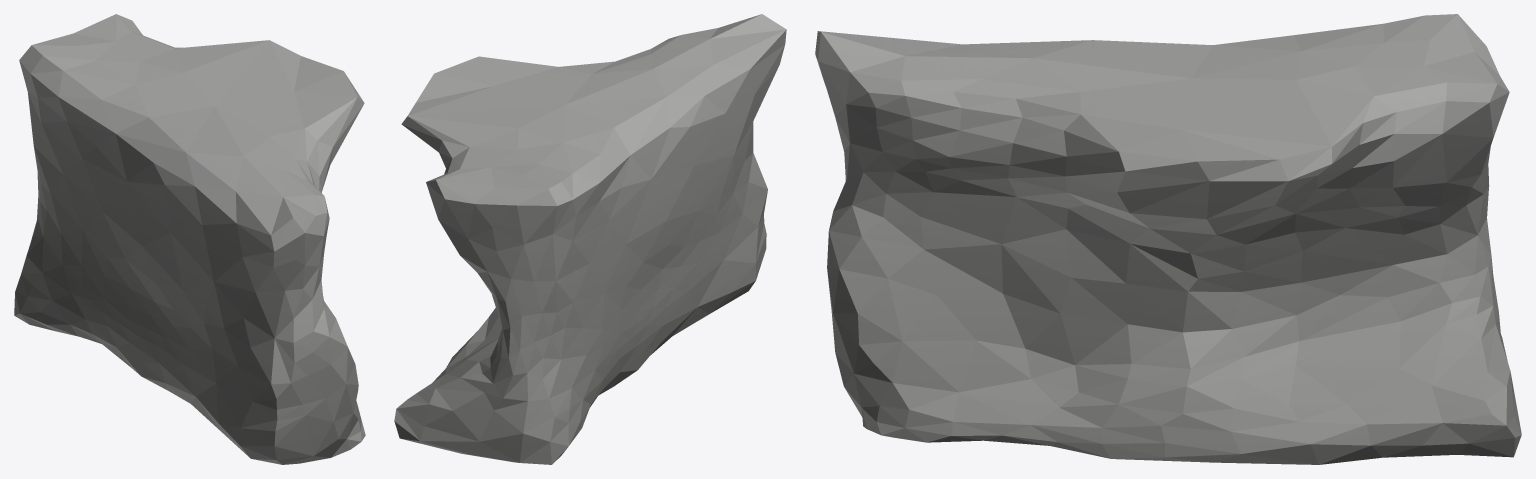
File: Cavern_Wall_Med-05.fbx
3 renders of one model, left to right at view 1: azimuth 30°, elevation 25°; view 2: azimuth 150°, elevation 25°; view 3: azimuth 270°, elevation 25°, orthographic. The views are drawn at different scales.
Visible parts, largest first — view 1: Cavern_Wall_Med-05; view 2: Cavern_Wall_Med-05; view 3: Cavern_Wall_Med-05.
Part boxes in pixels (<box>): Cavern_Wall_Med-05: <box>14,14,365,464</box>; Cavern_Wall_Med-05: <box>394,14,786,464</box>; Cavern_Wall_Med-05: <box>815,14,1521,464</box>.
Bounding box in the file's own units: 1035 × 1205 × 2068.
Materials: 1 (1 with a texture image).
